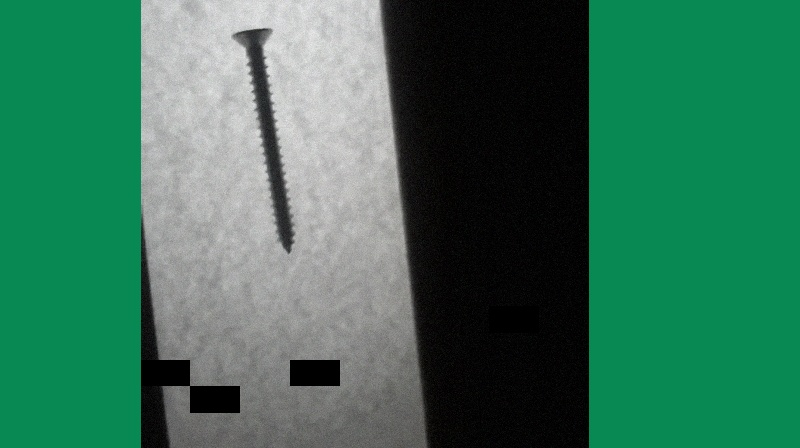S002: (227, 25, 296, 257)
